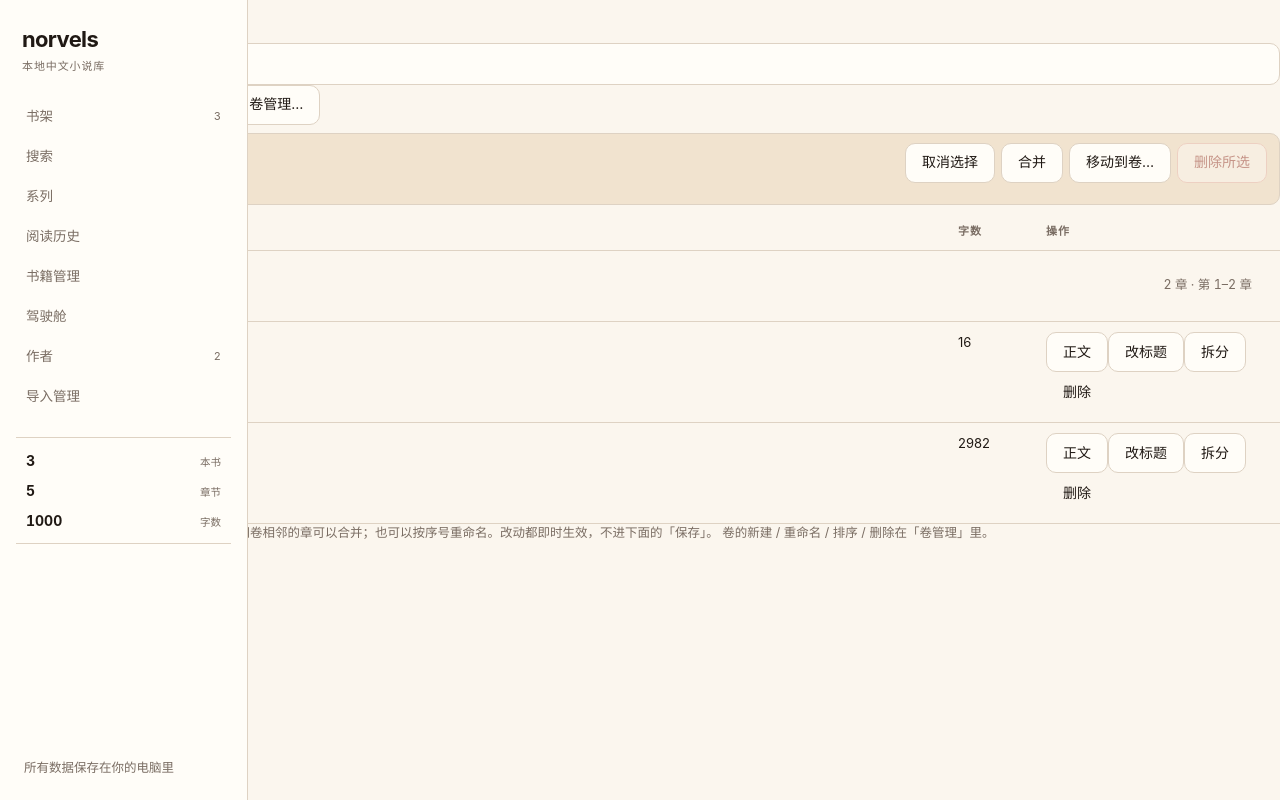
写操作成功后左栏统计重取 › 删除一章成功 → stats 再取一次
The image size is (1280, 800).
Check: the text "1000" is shown, box [26,510,62,531]
What coordinates should you click on to do the following:
click the button with test id "admin-chapter-delete-10"
I would click on:
 (1077, 392)
Its box is [1046,372,1108,412].
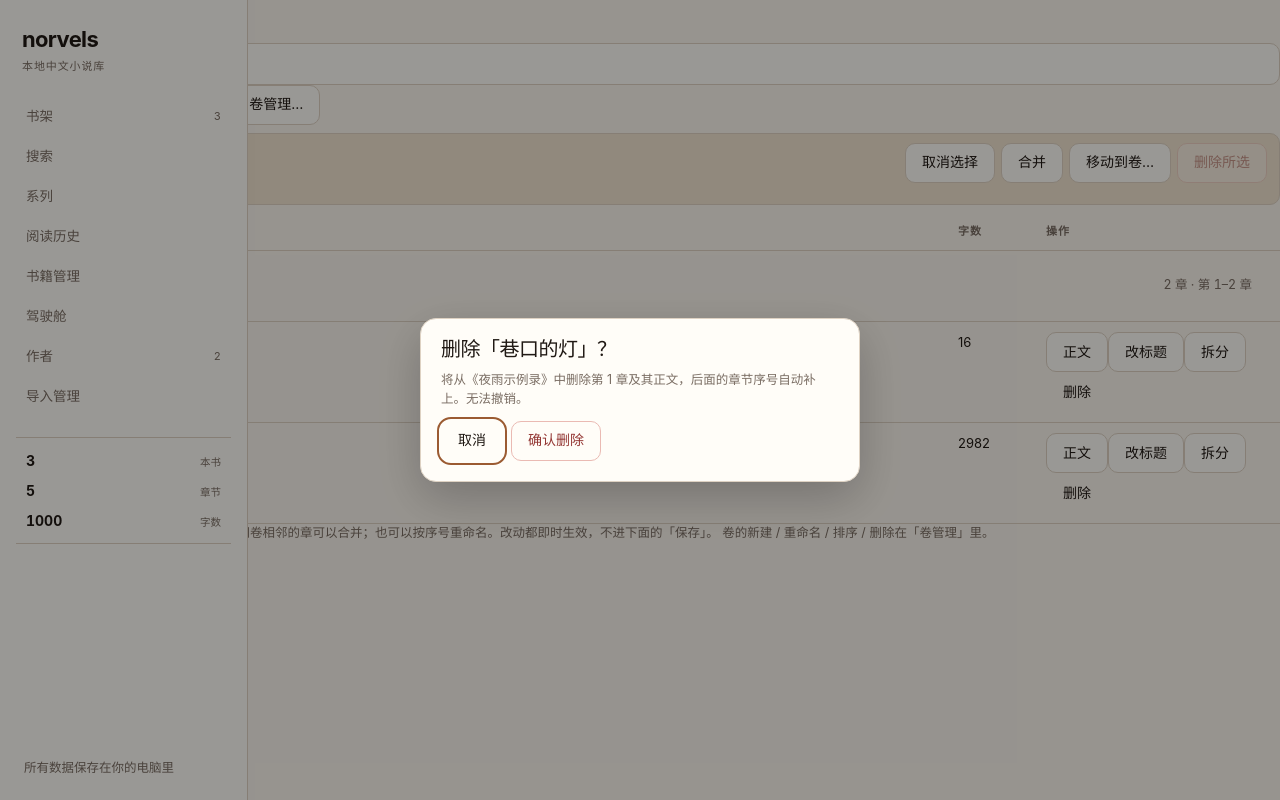
What coordinates should you click on to do the following:
click the button with test id "chapter-delete-confirm"
I would click on:
 (556, 441)
Its box is [511,421,601,461].
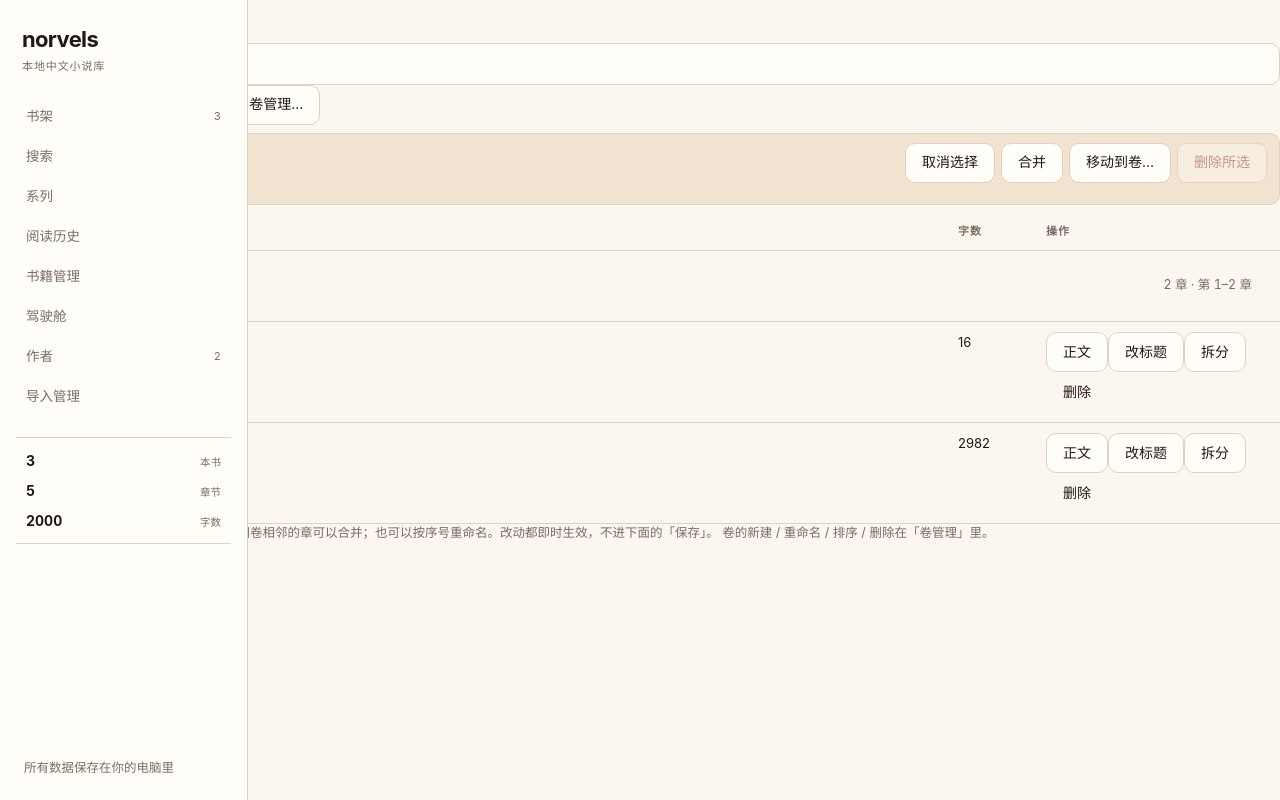
Check: the text "2000" is shown, box [26,510,62,531]
